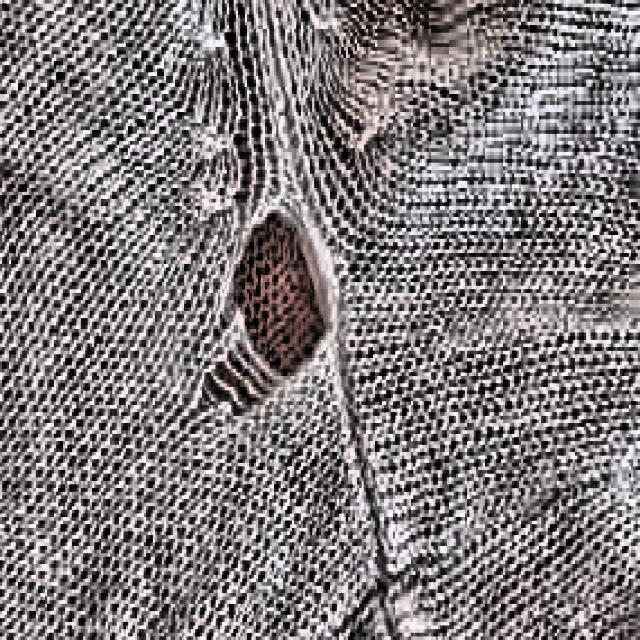Hole: (174, 161, 361, 448)
